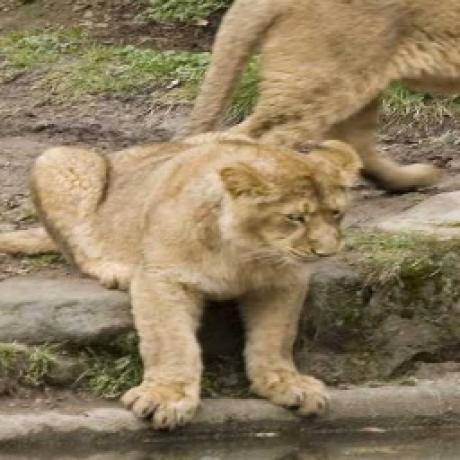Lion: (0, 131, 356, 435)
